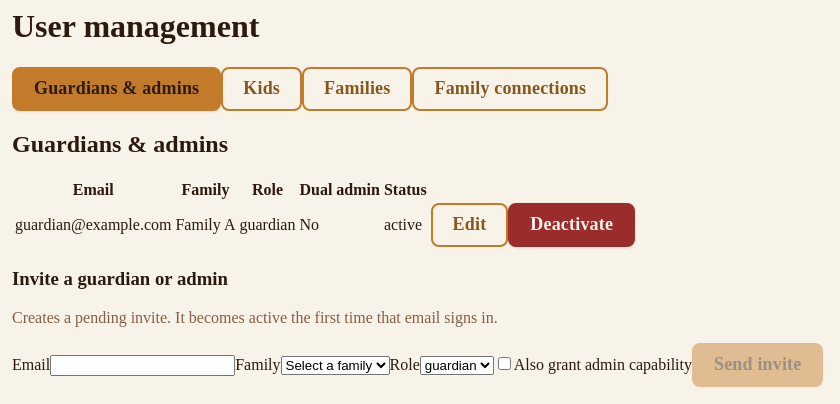
UserManagementPage › forces the dual-admin checkbox on when role is admin
Expected: the text "guardian@example.com" is shown, [14, 202, 172, 248]
Select "admin" in the dropdown labelled "Role" at {"x": 457, "y": 366}, box [420, 356, 494, 375]
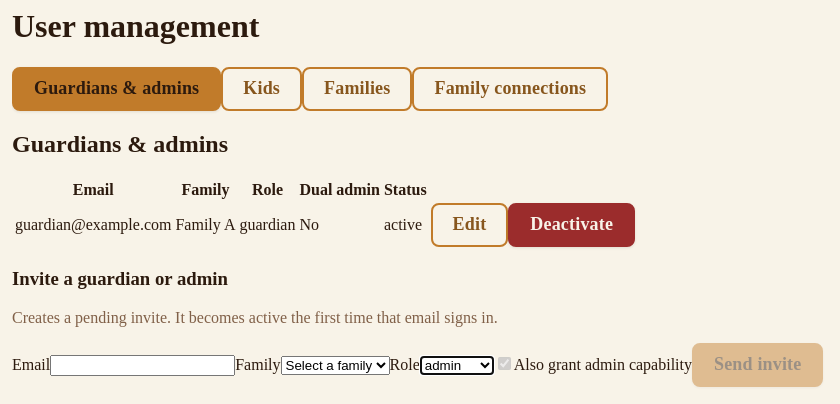
Expected: the checkbox labelled "Also grant admin capability" is checked, [498, 357, 511, 370]
Expected: the checkbox labelled "Also grant admin capability" is disabled, [498, 357, 511, 370]
